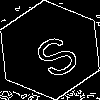S: (25, 25, 83, 82)
